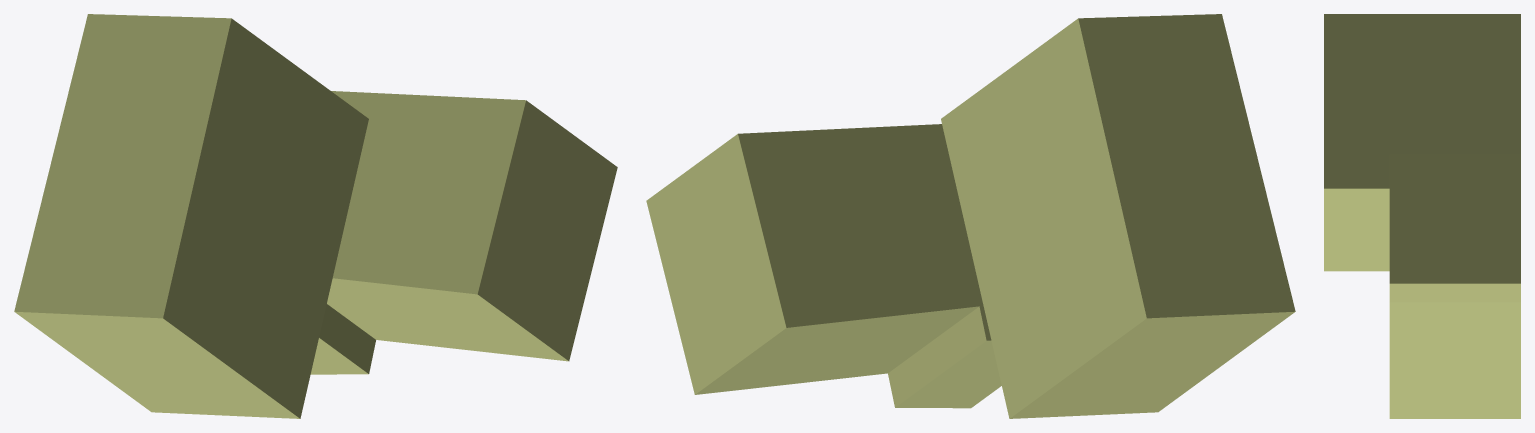
3 renders of one model, left to right at view 1: azimuth 30°, elevation 25°; view 2: azimuth 150°, elevation 25°; view 3: azimuth 270°, elevation 25°, orthographic. The views are drawn at different scales.
Visible parts, largest first — view 1: 0_1_0_0_2_0_1_1_3_2; view 2: 0_1_0_0_2_0_1_1_3_2; view 3: 0_1_0_0_2_0_1_1_3_2.
Part boxes in pixels (bbox=[...]): 0_1_0_0_2_0_1_1_3_2: bbox=[14, 14, 617, 418]; 0_1_0_0_2_0_1_1_3_2: bbox=[646, 14, 1295, 418]; 0_1_0_0_2_0_1_1_3_2: bbox=[1324, 14, 1520, 418].
Size of the model in its own units: 19.36 by 13.57 by 9.
